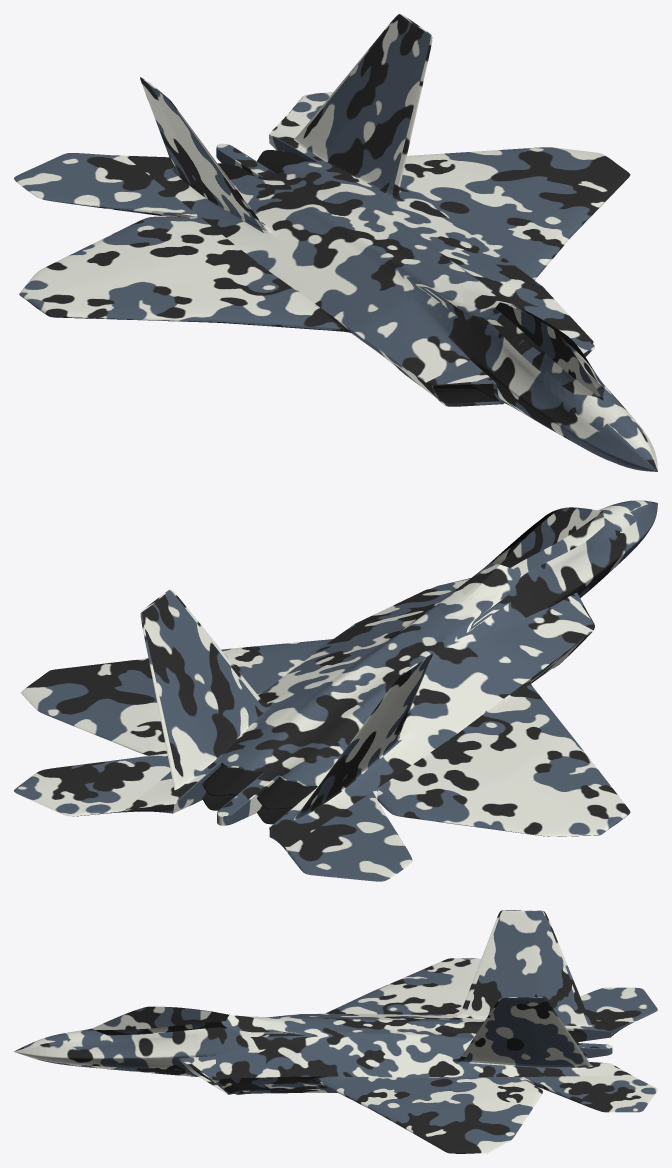
Rendered from f22_raptor.glb.
The picture shows the model from 3 angles, top to bottom: view 1: azimuth 30°, elevation 25°; view 2: azimuth 150°, elevation 25°; view 3: azimuth 270°, elevation 25°; orthographic projection. The views are drawn at different scales.
Visible parts, largest first — view 1: Hi Poly.001; view 2: Hi Poly.001; view 3: Hi Poly.001.
Part boxes in pixels (<box>): Hi Poly.001: <box>14,14,657,471</box>; Hi Poly.001: <box>14,500,657,881</box>; Hi Poly.001: <box>14,910,657,1153</box>.
Size of the model in its own units: 17.48 by 5.27 by 24.5.
3 materials, 1 textured.
